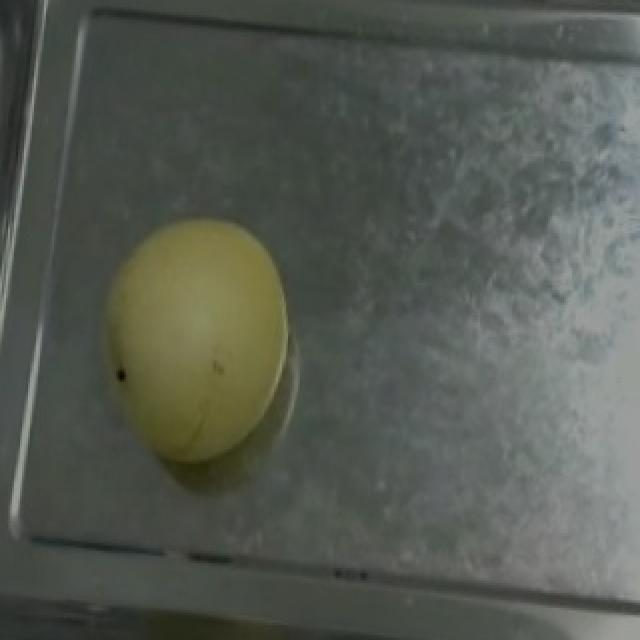Fruit: (72, 198, 304, 482)
